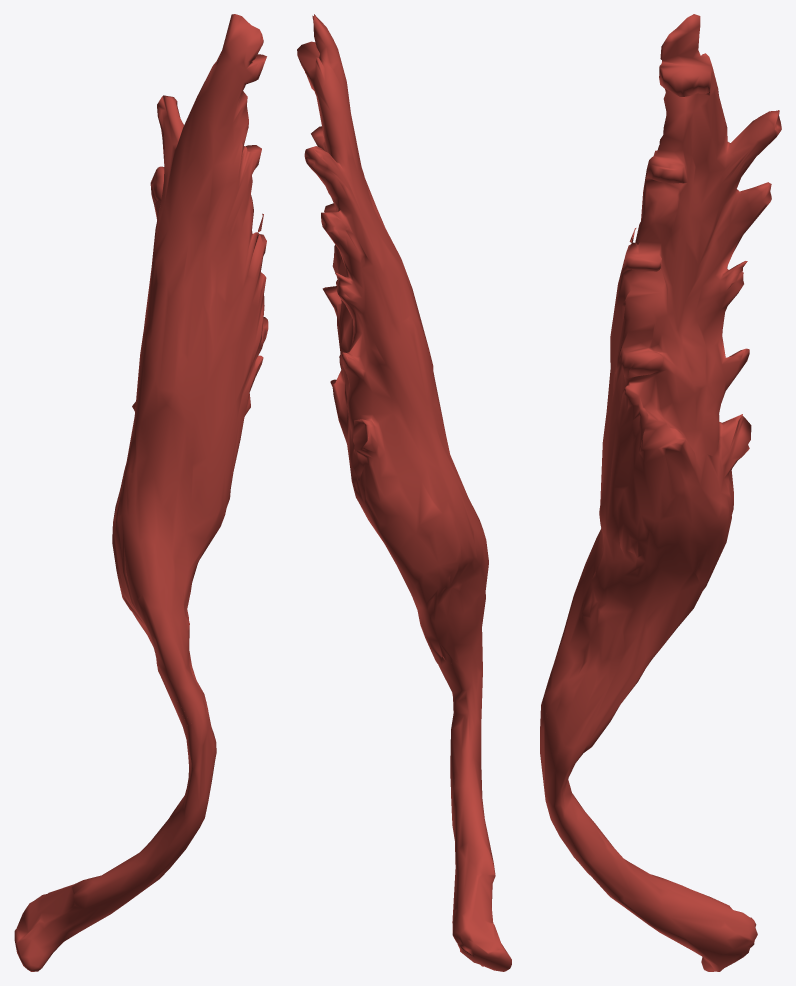
File: musculos-psoas-major-r.glb
3 views of the same model, side by side, from view 1: azimuth 30°, elevation 25°; view 2: azimuth 150°, elevation 25°; view 3: azimuth 270°, elevation 25° (orthographic). The views are drawn at different scales.
Parts seen in each view (by area): view 1: Psoas major.r; view 2: Psoas major.r; view 3: Psoas major.r.
Part boxes in pixels (x1,y1,x2,y2): Psoas major.r: [14, 14, 268, 971]; Psoas major.r: [297, 14, 511, 971]; Psoas major.r: [540, 14, 781, 971].
Size of the model in its own units: 0.0998 by 0.3799 by 0.0781.
